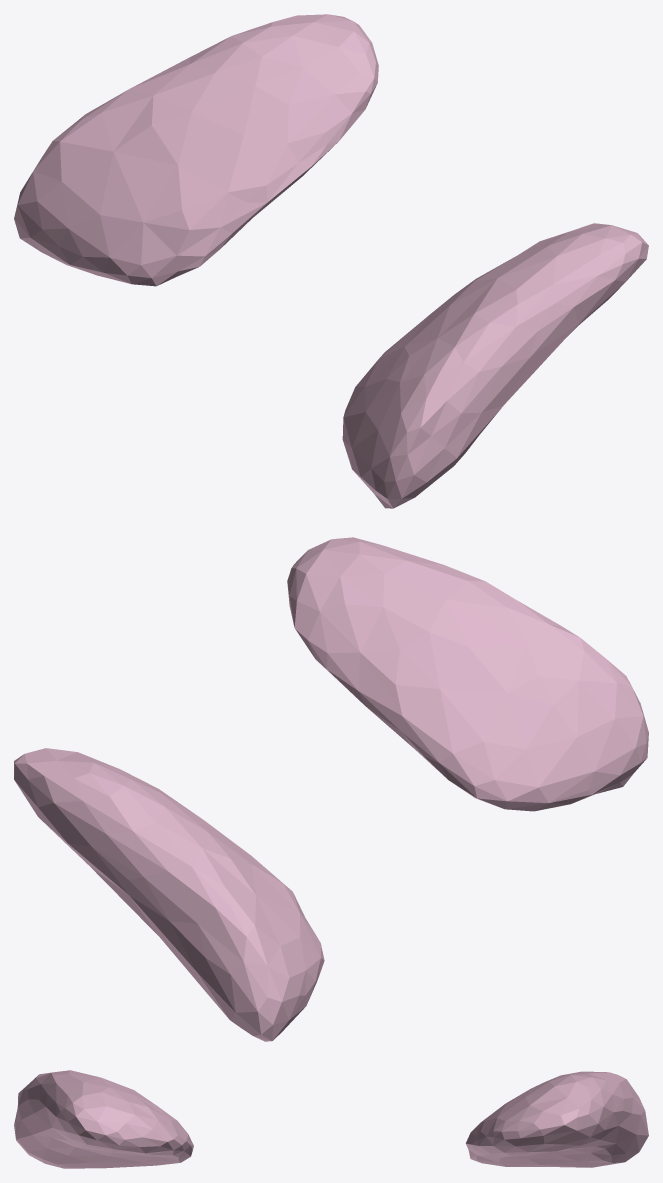
The picture shows the model from 3 angles, top to bottom: view 1: azimuth 30°, elevation 25°; view 2: azimuth 150°, elevation 25°; view 3: azimuth 270°, elevation 25°; orthographic projection. The views are drawn at different scales.
Parts seen in each view (by area): view 1: 642.obj; view 2: 642.obj; view 3: 642.obj.
Part boxes in pixels (<box>): 642.obj: <box>14,14,648,508</box>; 642.obj: <box>14,537,648,1041</box>; 642.obj: <box>14,1070,648,1168</box>.
Size of the model in its own units: 822 by 507 by 1798.
